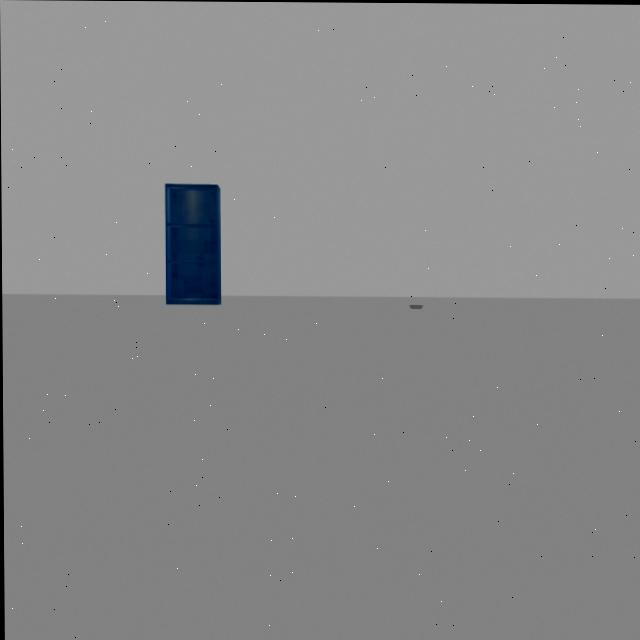bowl: (404, 293, 429, 319)
shelf: (157, 170, 227, 315)
